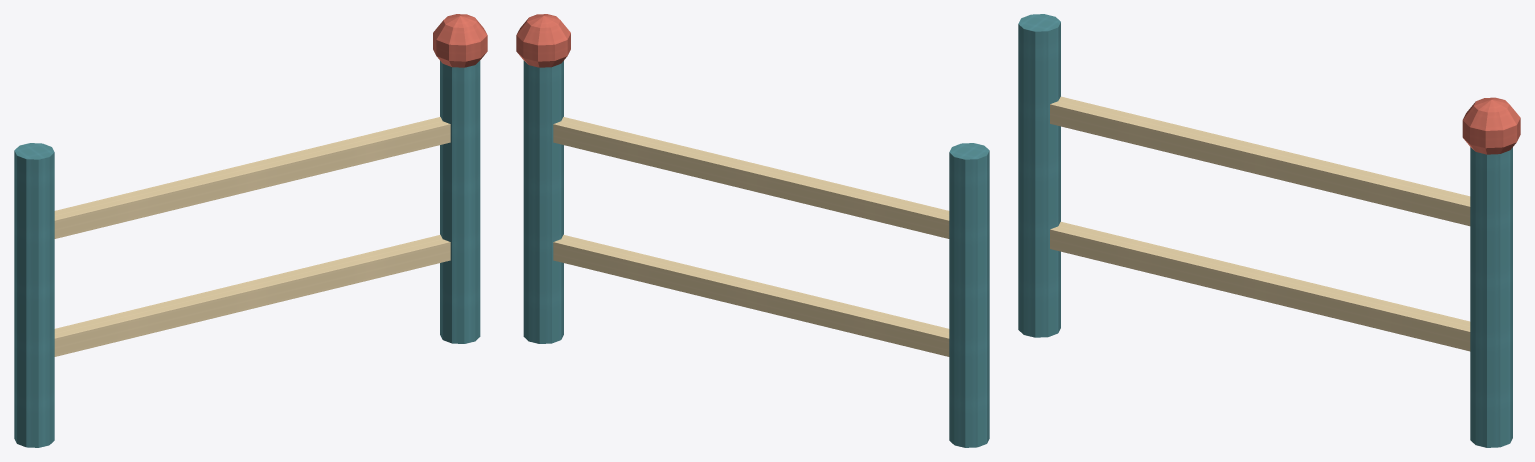
File: atlas100-atompunk-util04.lod1.glb
3 renders of one model, left to right at view 1: azimuth 30°, elevation 25°; view 2: azimuth 150°, elevation 25°; view 3: azimuth 330°, elevation 25°, orthographic. The views are drawn at different scales.
Visible parts, largest first — view 1: atlas100-atompunk-util04:part-000, atlas100-atompunk-util04:part-004, atlas100-atompunk-util04:part-005, atlas100-atompunk-util04:part-002, atlas100-atompunk-util04:part-003; view 2: atlas100-atompunk-util04:part-000, atlas100-atompunk-util04:part-004, atlas100-atompunk-util04:part-005, atlas100-atompunk-util04:part-002, atlas100-atompunk-util04:part-003; view 3: atlas100-atompunk-util04:part-000, atlas100-atompunk-util04:part-004, atlas100-atompunk-util04:part-005, atlas100-atompunk-util04:part-002, atlas100-atompunk-util04:part-003.
Boxes of the visible parts, x1,y1,x2,y2 form: atlas100-atompunk-util04:part-000: (14,143,54,447); atlas100-atompunk-util04:part-004: (54,234,450,356); atlas100-atompunk-util04:part-005: (54,117,450,238); atlas100-atompunk-util04:part-002: (440,60,480,343); atlas100-atompunk-util04:part-003: (433,14,487,67); atlas100-atompunk-util04:part-000: (949,143,989,447); atlas100-atompunk-util04:part-004: (553,234,949,356); atlas100-atompunk-util04:part-005: (553,117,949,238); atlas100-atompunk-util04:part-002: (523,60,563,343); atlas100-atompunk-util04:part-003: (516,14,570,67); atlas100-atompunk-util04:part-000: (1018,14,1060,337); atlas100-atompunk-util04:part-004: (1050,222,1470,351); atlas100-atompunk-util04:part-005: (1050,96,1470,226); atlas100-atompunk-util04:part-002: (1470,147,1512,447); atlas100-atompunk-util04:part-003: (1462,97,1520,154).
Bounding box in the file's own units: 1.99 × 1.3 × 0.1934.
3 materials, 3 textured.
